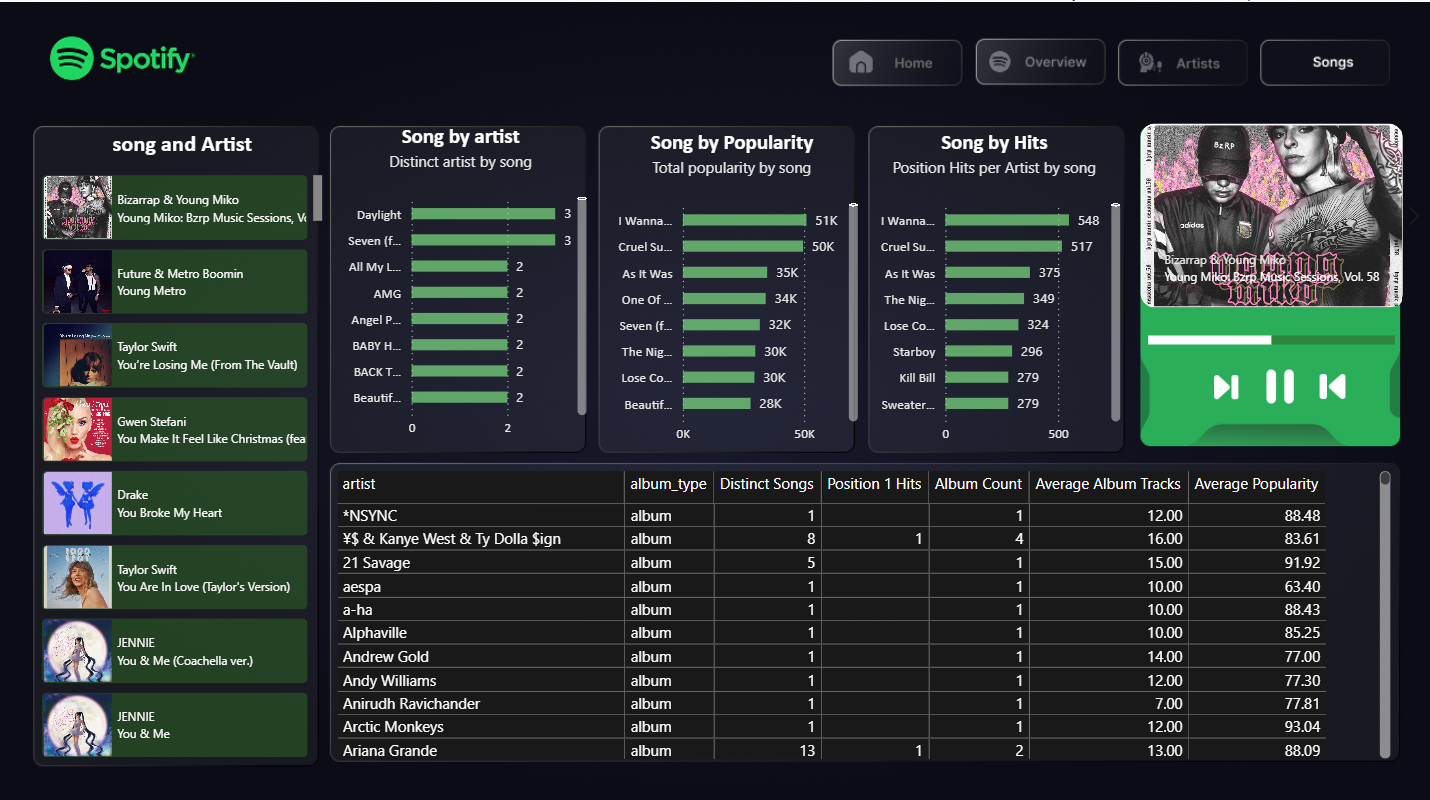

What the dashboard file says about the page in this screenshot:
{"tool":"powerbi","page":{"name":"Songs","canvas":[1280,720],"ordinal":3},"visuals":[{"type":"actionButton","box":[746.5,32.3,112.2,39.8],"z":0},{"type":"actionButton","box":[875.6,32.3,112.2,39.8],"z":1000},{"type":"actionButton","box":[1002.3,31.1,112.2,39.8],"z":2000},{"type":"actionButton","box":[1127.8,31.1,112.2,39.8],"z":3000},{"type":"advancedSlicerVisual","title":"song and Artist","fields":{"Values":["Top-50-World.song"]},"box":[33.8,113.4,260.6,567],"z":4000},{"type":"advancedSlicerVisual","title":"song and Artist","fields":{"Values":["Top-50-World.song"]},"box":[995.3,103.8,284.7,174.9],"z":5000},{"type":"hundredPercentStackedBarChart","fields":{"Y":["Top-50-World.Average Popularity","Avg(Top-50-World.popularity)"]},"box":[1021.9,265.4,230.4,66.4],"z":6000},{"type":"image","box":[1178.3,328.8,26.1,30.2],"z":7000},{"type":"image","box":[1083.6,331.5,26.1,24.7],"z":8000},{"type":"image","box":[1124.8,328.8,40,30],"z":9000},{"type":"tableEx","fields":{"Values":["Top-50-World.artist","Top-50-World.album_type","Slicer_option 2.Distinct Songs","Slicer_option 2.Position 1 Hits","Slicer_option 2.Album Count","Top-50-World.Average Album Tracks","Top-50-World.Average Popularity"]},"box":[295.6,413.8,951.9,266.6],"z":10000},{"type":"clusteredBarChart","title":"Song by artist","fields":{"Category":["Top-50-World.song"],"Y":["Count(Top-50-World.artist)"]},"box":[294.4,108.6,235.3,288.3],"z":11000},{"type":"clusteredBarChart","title":"Song by Popularity","fields":{"Category":["Top-50-World.song"],"Y":["Sum(Top-50-World.popularity)"]},"box":[536.9,113.4,235.3,288.3],"z":12000},{"type":"clusteredBarChart","title":"Song by Hits","fields":{"Category":["Top-50-World.song"],"Y":["Slicer_option 2.Average Hits per Artist"]},"box":[772.1,113.4,235.3,288.3],"z":13000}]}

Visuals, with their boxes in screenshot pixels (x1, y1, x2, y2), scaled from the page's 1280x720 canvas onto the 1430x800 screenshot:
actionButton: crop(834, 36, 959, 80)
actionButton: crop(978, 36, 1104, 80)
actionButton: crop(1120, 35, 1245, 79)
actionButton: crop(1260, 35, 1385, 79)
"song and Artist" advancedSlicerVisual: crop(38, 126, 329, 756)
"song and Artist" advancedSlicerVisual: crop(1112, 115, 1429, 310)
hundredPercentStackedBarChart - Top-50-World.Average Popularity x Avg(Top-50-World.popularity): crop(1142, 295, 1399, 369)
image: crop(1316, 365, 1346, 399)
image: crop(1211, 368, 1240, 396)
image: crop(1257, 365, 1301, 399)
tableEx - Top-50-World.artist x Top-50-World.album_type: crop(330, 460, 1394, 756)
"Song by artist" clusteredBarChart: crop(329, 121, 592, 441)
"Song by Popularity" clusteredBarChart: crop(600, 126, 863, 446)
"Song by Hits" clusteredBarChart: crop(863, 126, 1125, 446)
